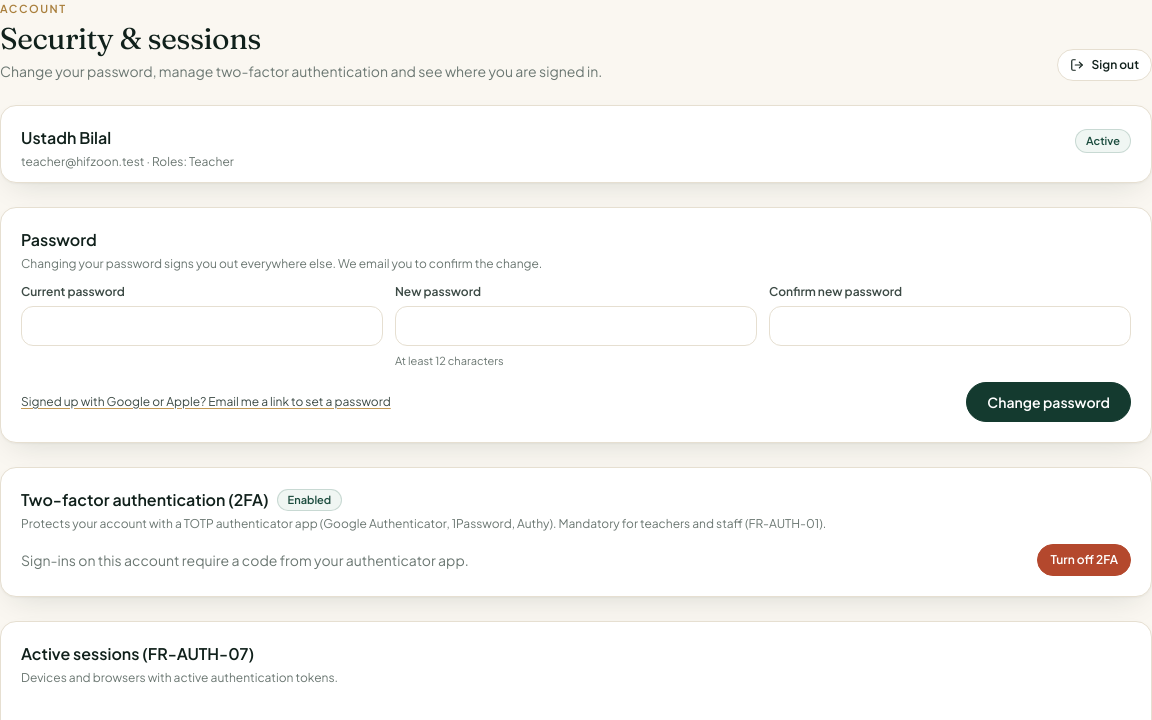
Scenario: account security (portal screen) › turns 2FA off with a recovery code instead of the password
Click the button "Turn off 2FA". click: (1084, 560)
box: [1037, 544, 1131, 576]
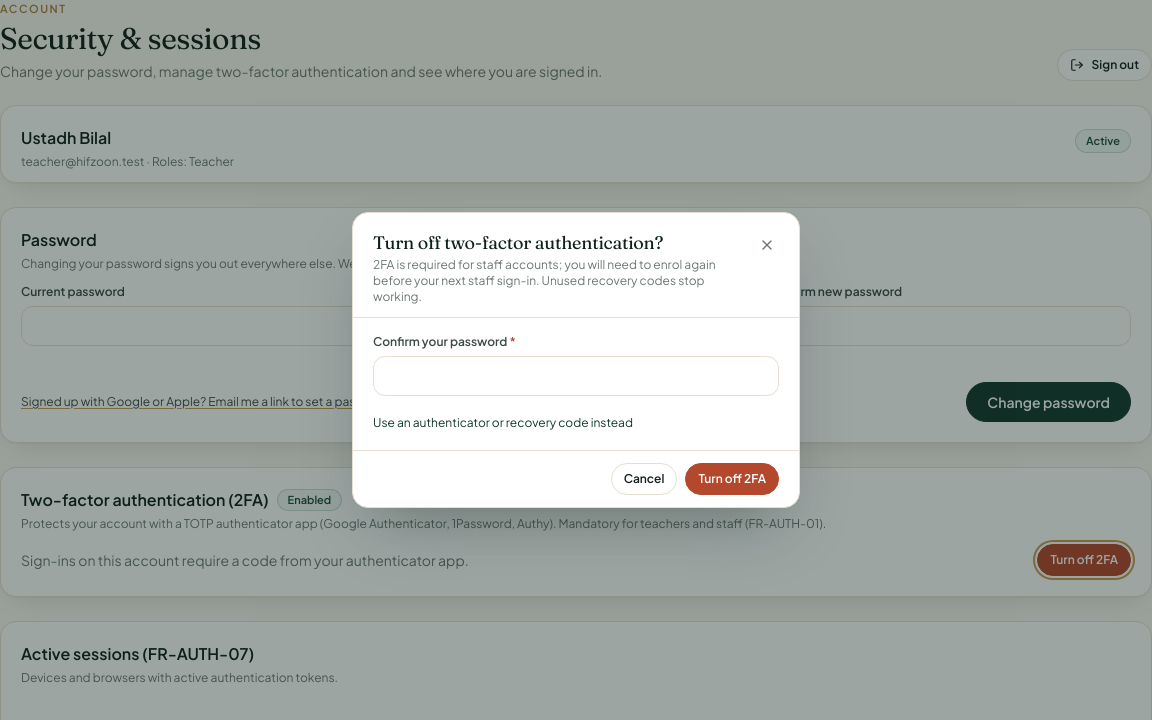
Click the button "Use an authenticator or recovery code instead". click: (503, 423)
box: [373, 415, 633, 431]
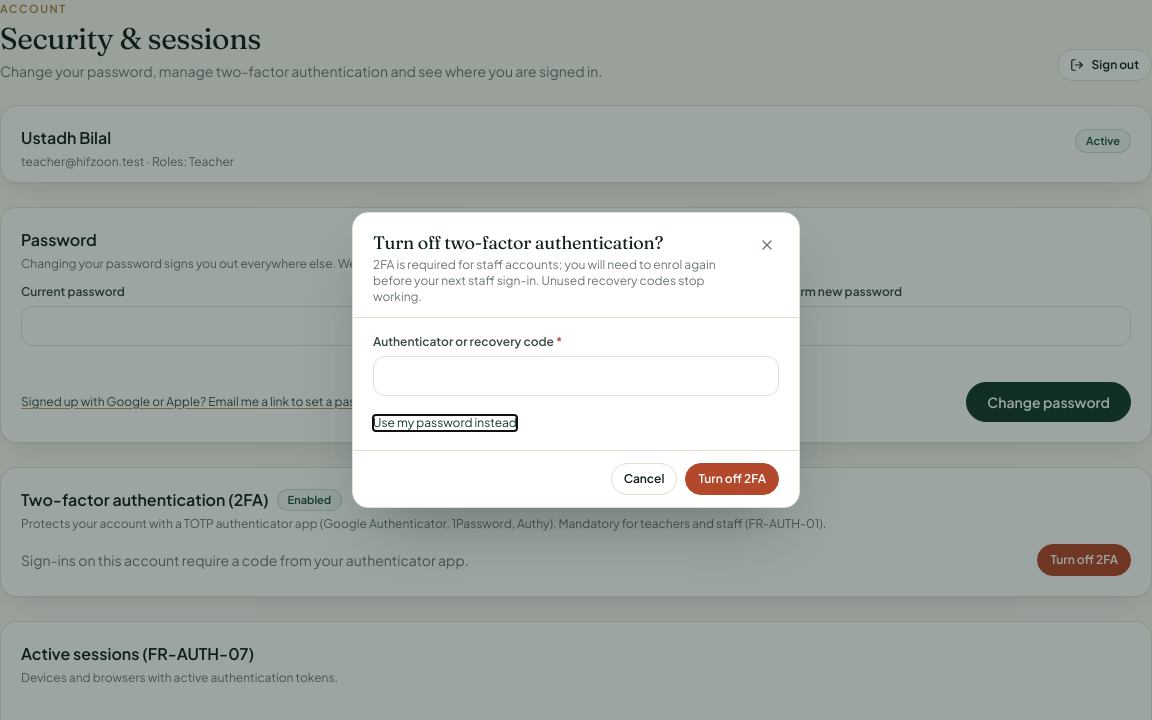
Type "AbC-12_x" into the field labelled "Authenticator or recovery code*". click: (576, 376)
box: [373, 356, 779, 396]
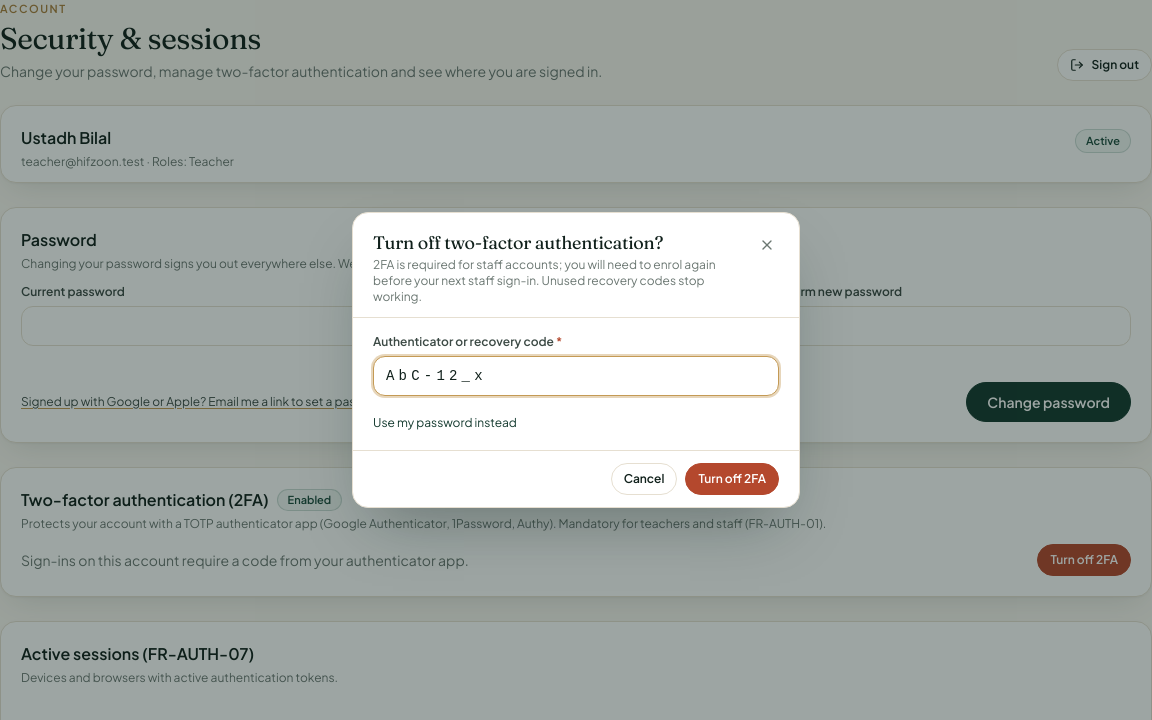
Click the button "Turn off 2FA". click: (732, 479)
box: [685, 463, 779, 495]
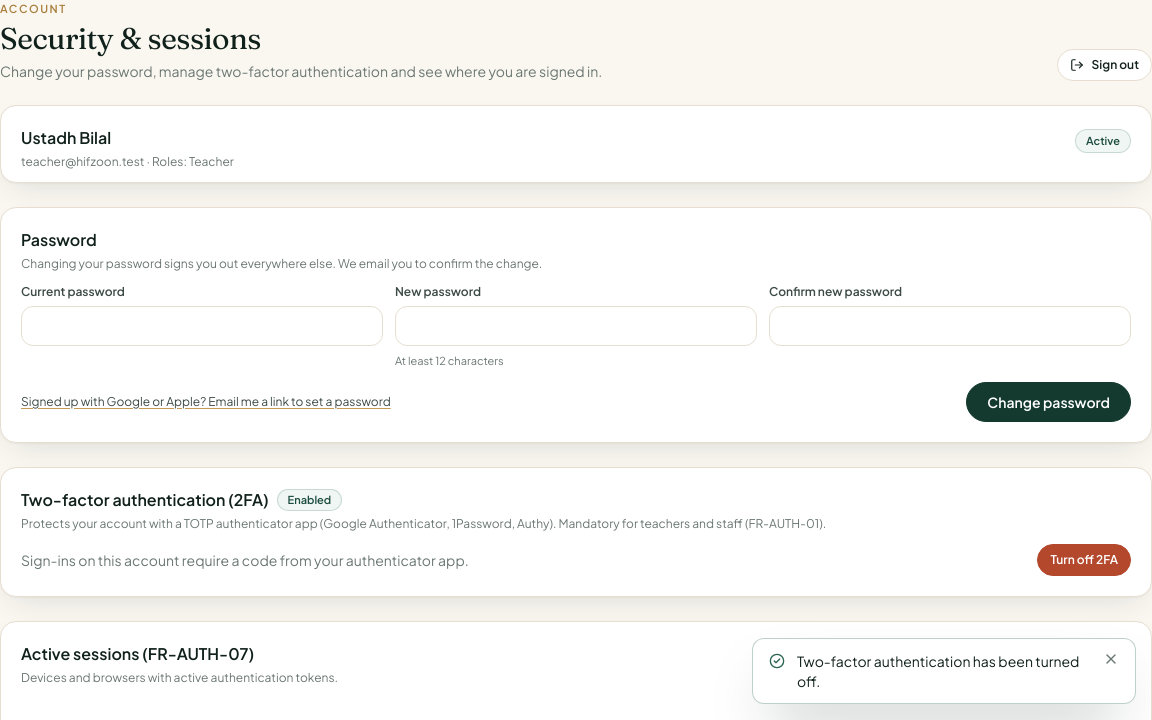
Expected: the text "Two-factor authentication has been turned off." is shown, [797, 651, 1091, 691]
